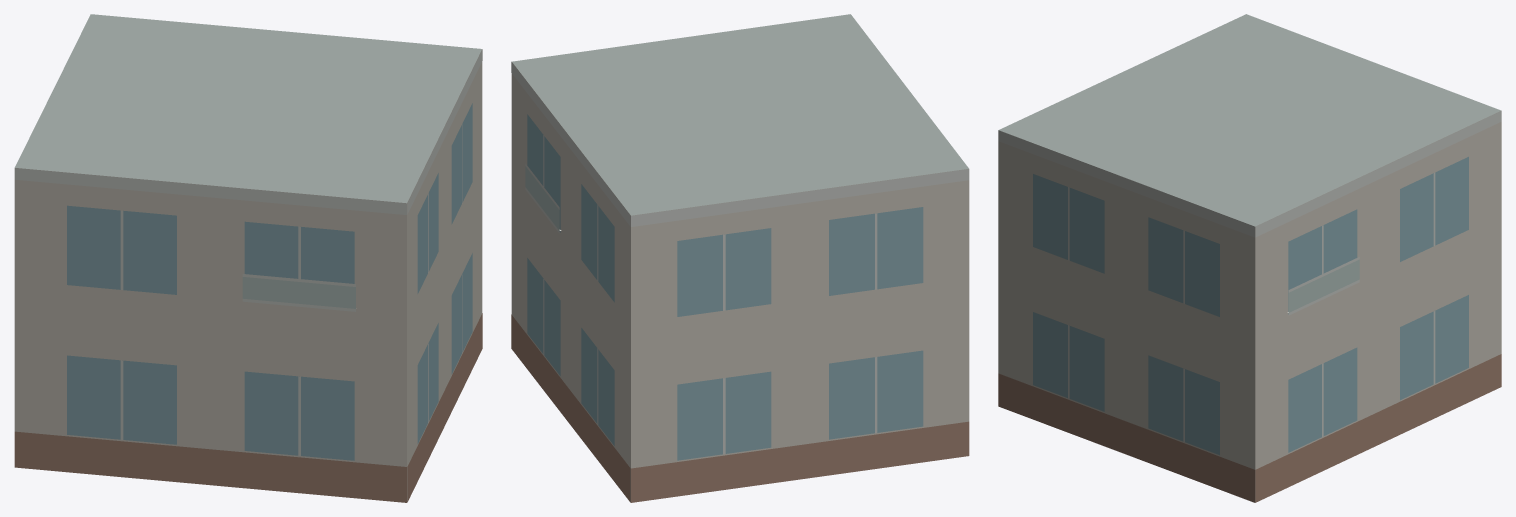
Rendered from survey-upis-32905482.glb.
3 renders of one model, left to right at view 1: azimuth 30°, elevation 25°; view 2: azimuth 150°, elevation 25°; view 3: azimuth 270°, elevation 25°, orthographic. The views are drawn at different scales.
Parts seen in each view (by area): view 1: survey-upis-32905482.tmp; view 2: survey-upis-32905482.tmp; view 3: survey-upis-32905482.tmp.
Boxes of the visible parts, x1,y1,x2,y2 form: survey-upis-32905482.tmp: [14, 14, 482, 502]; survey-upis-32905482.tmp: [511, 14, 969, 502]; survey-upis-32905482.tmp: [998, 14, 1501, 502].
Bounding box in the file's own units: 10.08 × 6.1 × 10.08.
